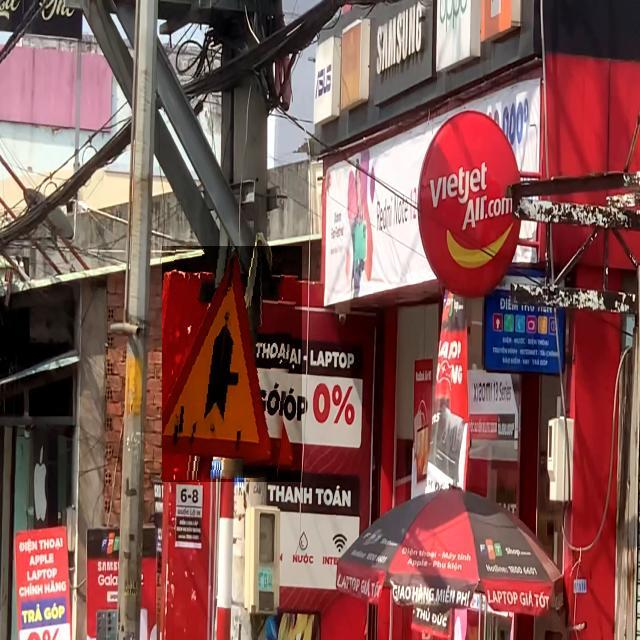W-207b: (162, 246, 302, 482)
